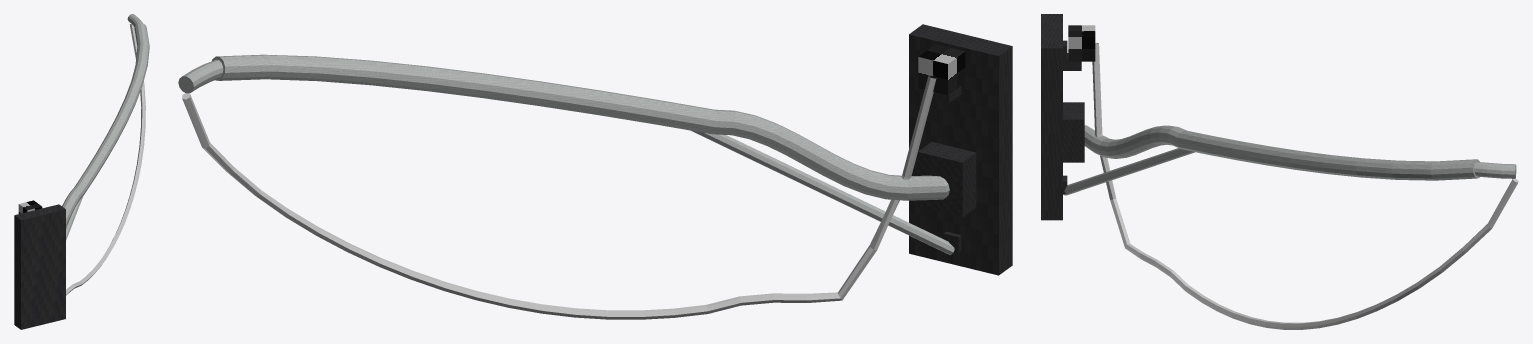
Rendered from arm_3_right_wired.obj.
3 renders of one model, left to right at view 1: azimuth 30°, elevation 25°; view 2: azimuth 150°, elevation 25°; view 3: azimuth 270°, elevation 25°, orthographic. The views are drawn at different scales.
Visible parts, largest first — view 1: pole_light_mount_3_right_wired; view 2: pole_light_mount_3_right_wired; view 3: pole_light_mount_3_right_wired.
Part boxes in pixels (left/top/right/bottom): pole_light_mount_3_right_wired: left=14, top=14, right=149, bottom=329; pole_light_mount_3_right_wired: left=178, top=24, right=1012, bottom=319; pole_light_mount_3_right_wired: left=1041, top=14, right=1518, bottom=329.
Size of the model in its own units: 2.22 by 1.27 by 2.2.
